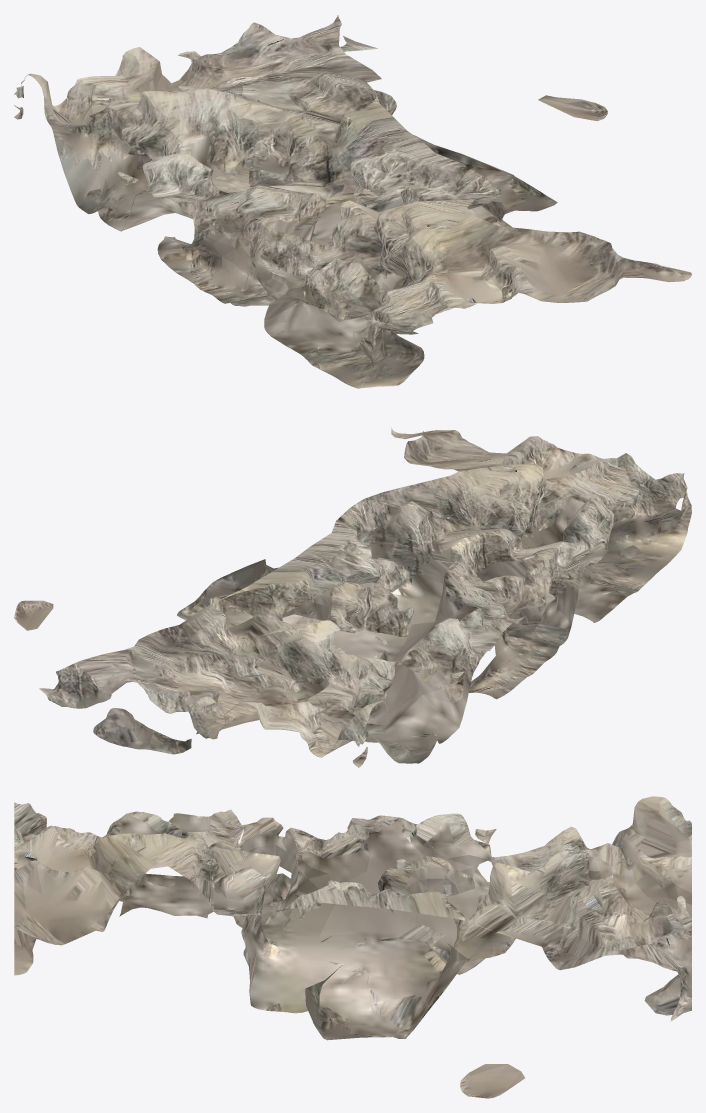
The model's file is Block_L19_25.glb.
3 renders of one model, top to bottom at view 1: azimuth 30°, elevation 25°; view 2: azimuth 150°, elevation 25°; view 3: azimuth 270°, elevation 25°, orthographic. The views are drawn at different scales.
Parts seen in each view (by area): view 1: rtc; view 2: rtc; view 3: rtc.
Part boxes in pixels (bbox=[...]): rtc: bbox=[14, 15, 691, 388]; rtc: bbox=[14, 427, 691, 767]; rtc: bbox=[14, 796, 691, 1098].
Size of the model in its own units: 58.42 by 16.39 by 75.36.
2 materials, 2 textured.
